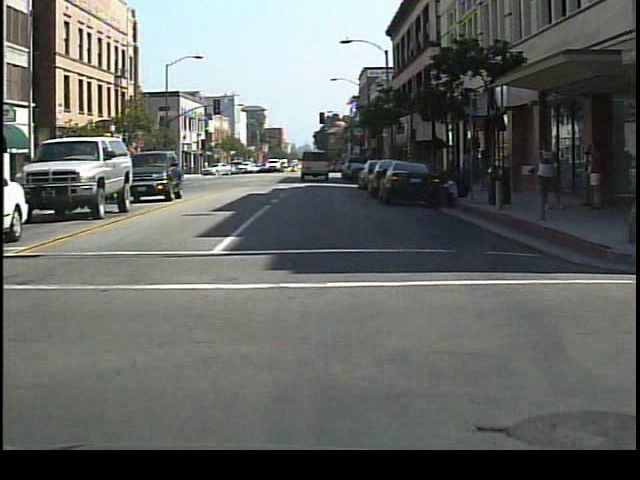person: (530, 132, 565, 223), (459, 142, 480, 200)
